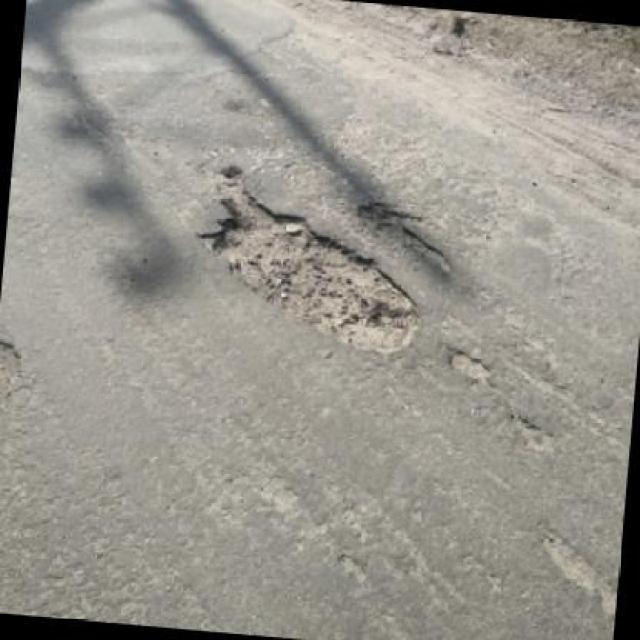pothole: (187, 158, 430, 360), (526, 518, 622, 614), (351, 196, 462, 279), (440, 344, 502, 387), (0, 335, 28, 417)
